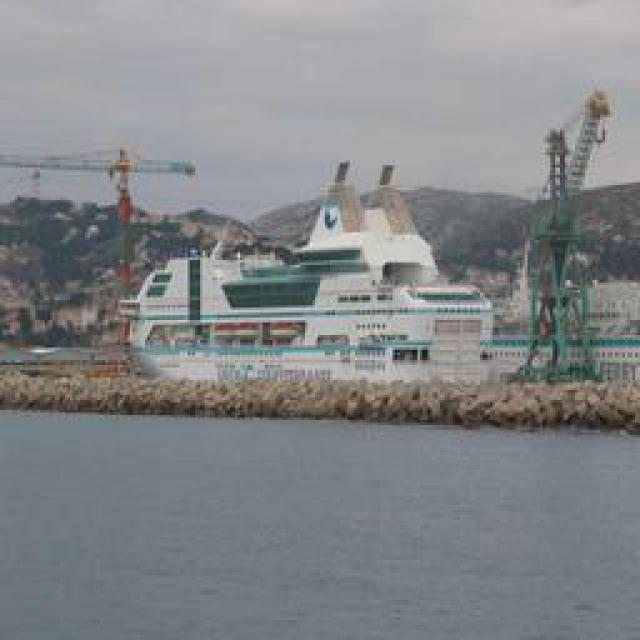Ship: (124, 190, 504, 395)
